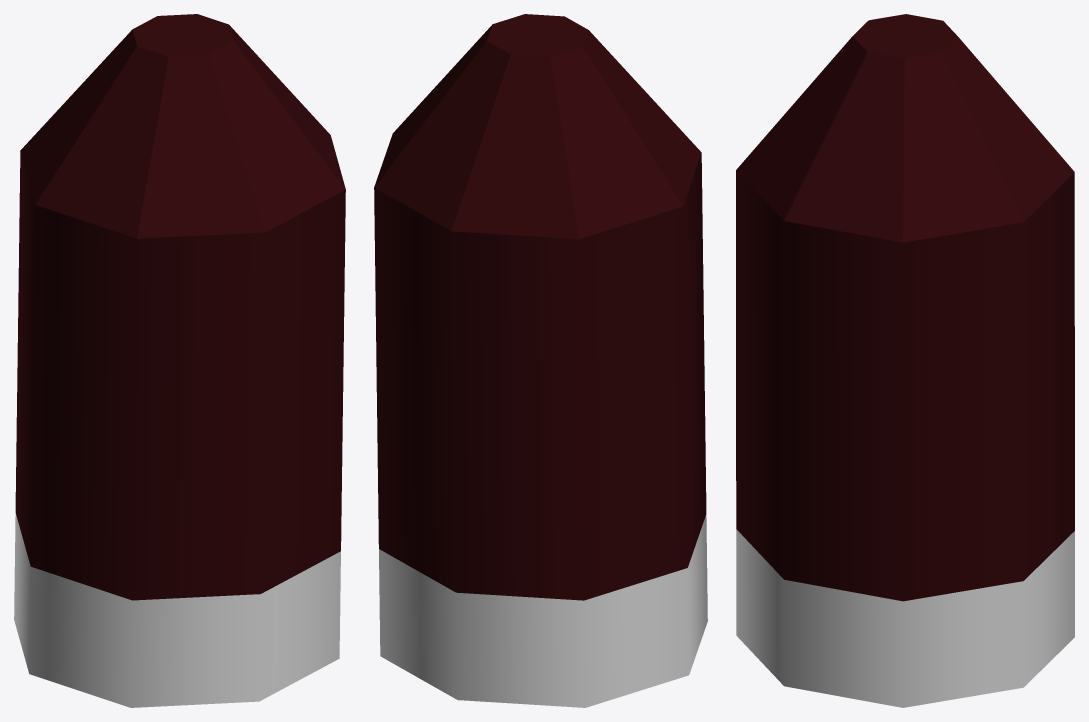
Rendered from RocketShell_RLG.fbx.
3 renders of one model, left to right at view 1: azimuth 30°, elevation 25°; view 2: azimuth 150°, elevation 25°; view 3: azimuth 270°, elevation 25°, orthographic.
Parts seen in each view (by area): view 1: Rockets.002; view 2: Rockets.002; view 3: Rockets.002.
Boxes of the visible parts, x1=… form: Rockets.002: x1=14, y1=14, x2=345, y2=707; Rockets.002: x1=374, y1=14, x2=707, y2=707; Rockets.002: x1=736, y1=14, x2=1074, y2=707.
Size of the model in its own units: 4.99 by 9.6 by 4.89.
